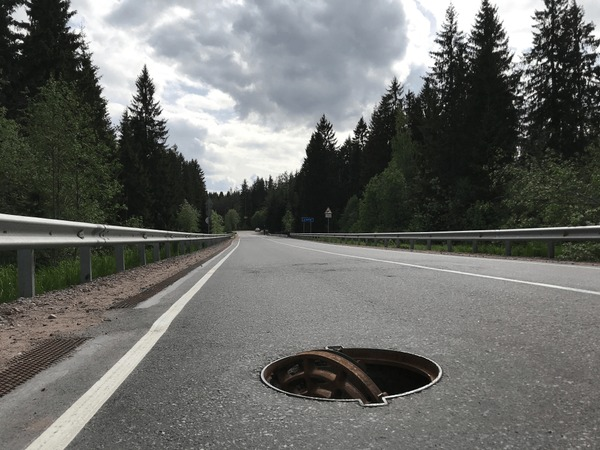open_manhole: (260, 343, 446, 406)
